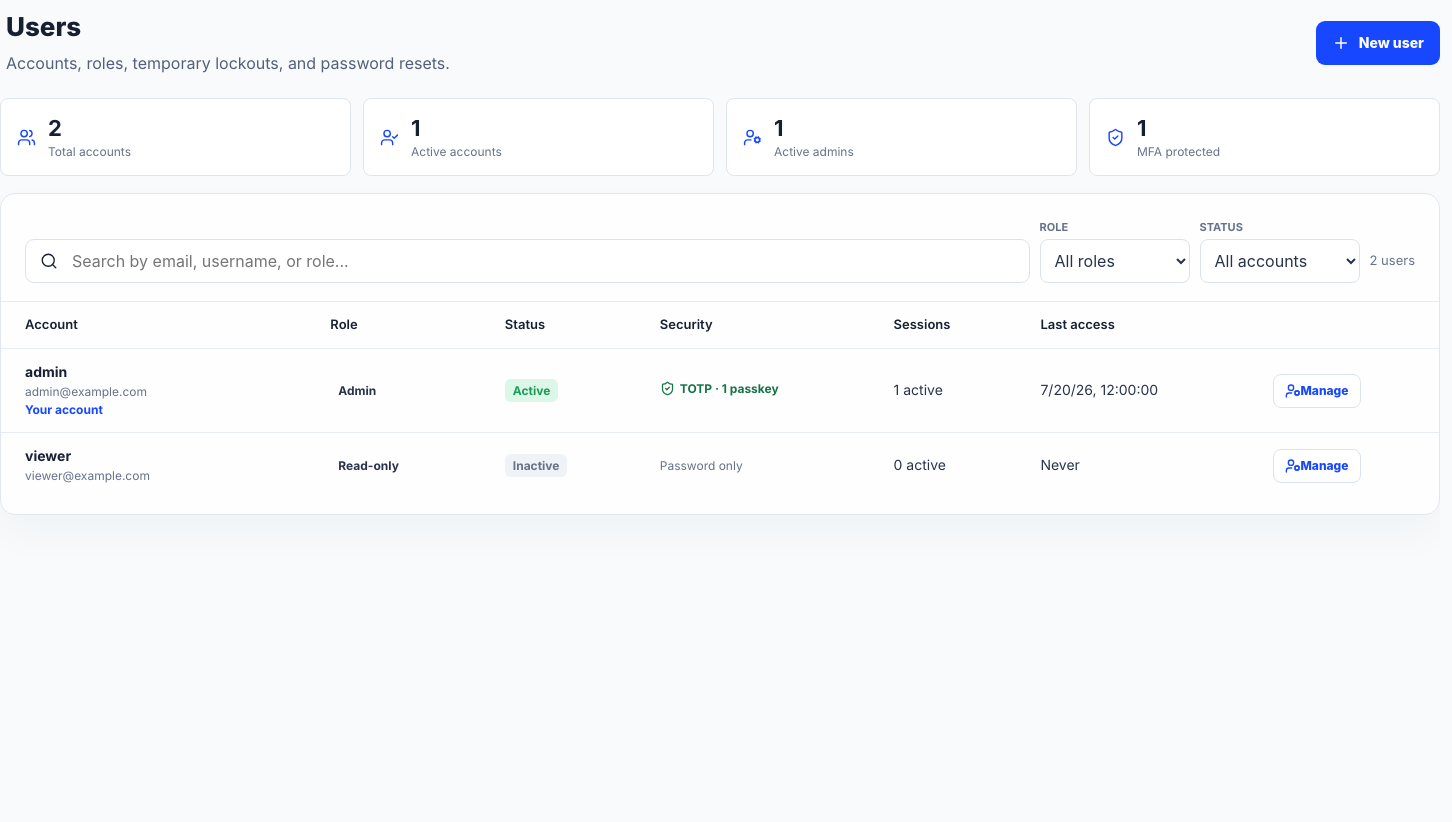
Test case: UsersView › creates an account and exposes its temporary password once
Click the button "New user" at (1378, 42), box top-left (1316, 20), bottom-right (1440, 64)
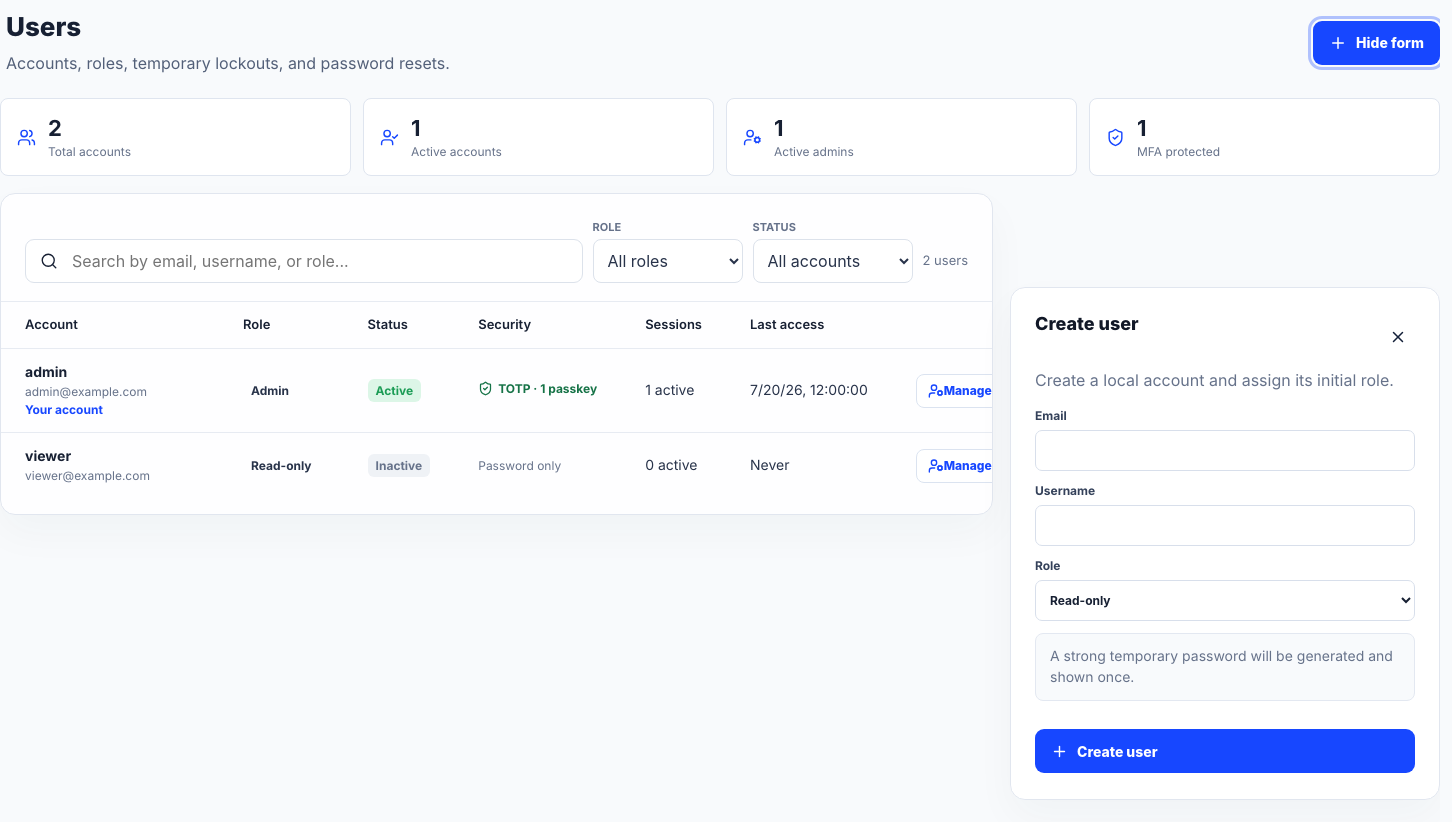
Type "new@example.com" into the field labelled "Email" at (1225, 450), box top-left (1035, 430), bottom-right (1415, 471)
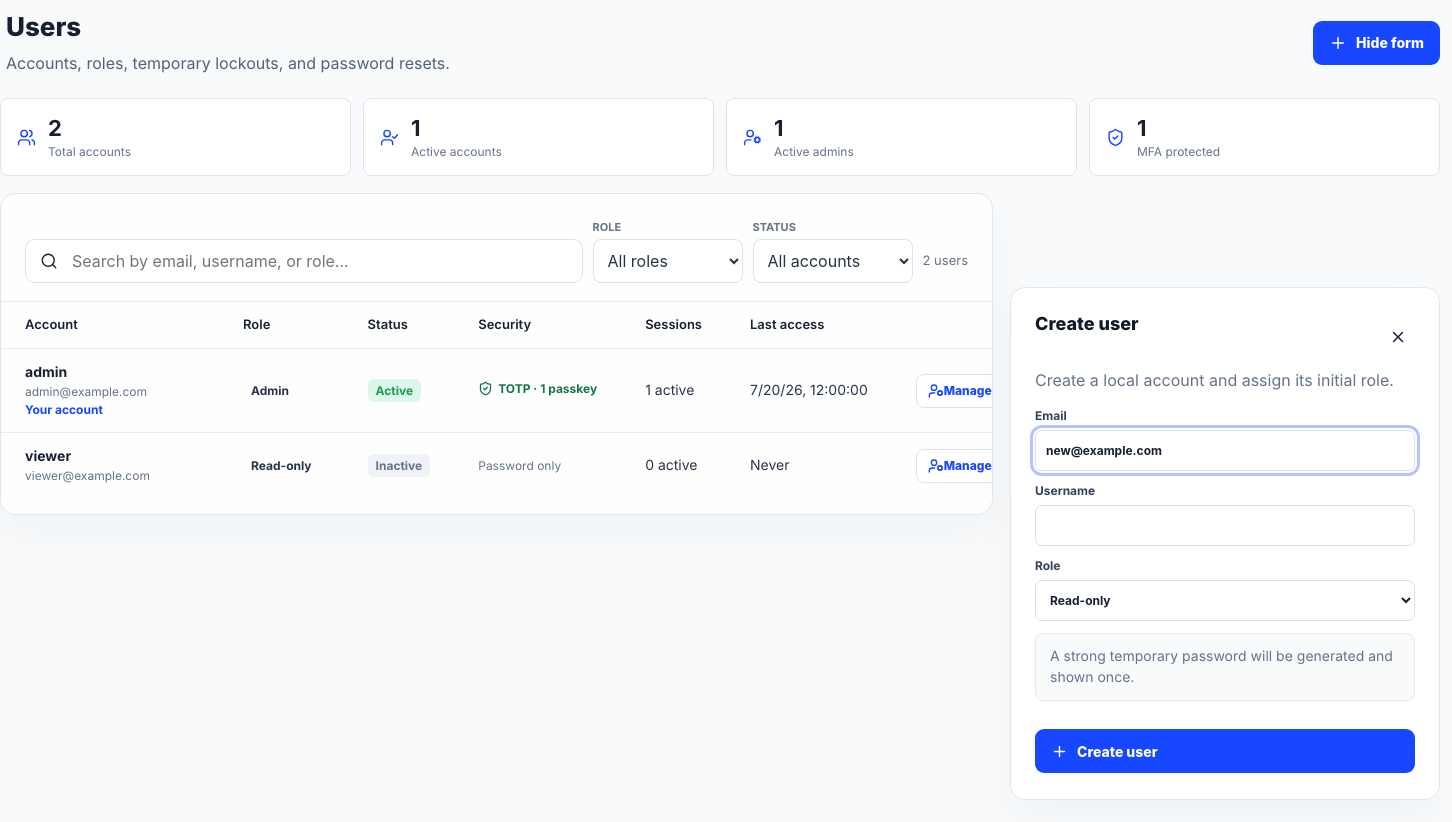
Type "new-user" into the field labelled "Username" at (1225, 526), box top-left (1035, 505), bottom-right (1415, 546)
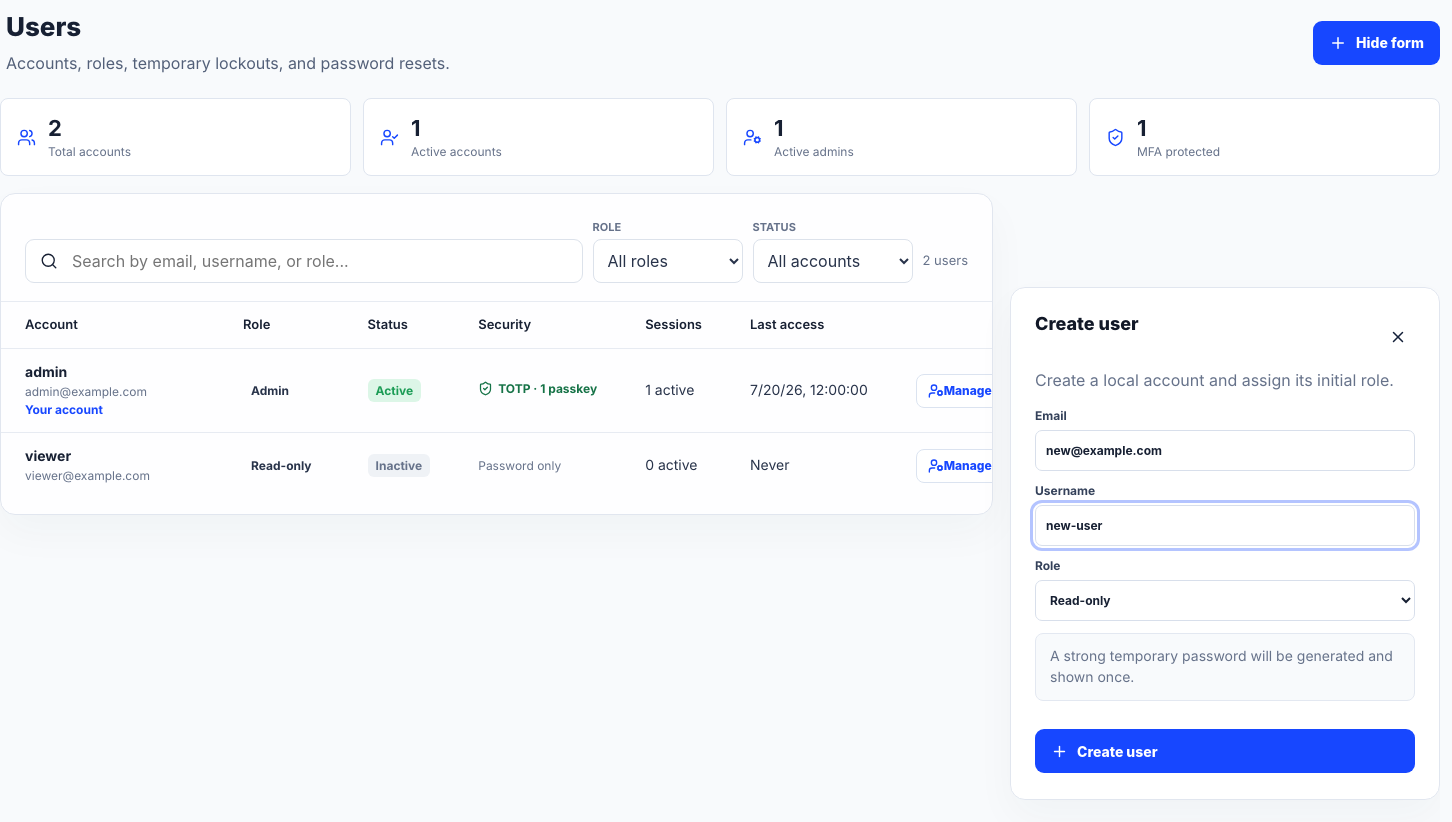
Click the button "Create user" at (1117, 751), box top-left (1035, 729), bottom-right (1415, 773)
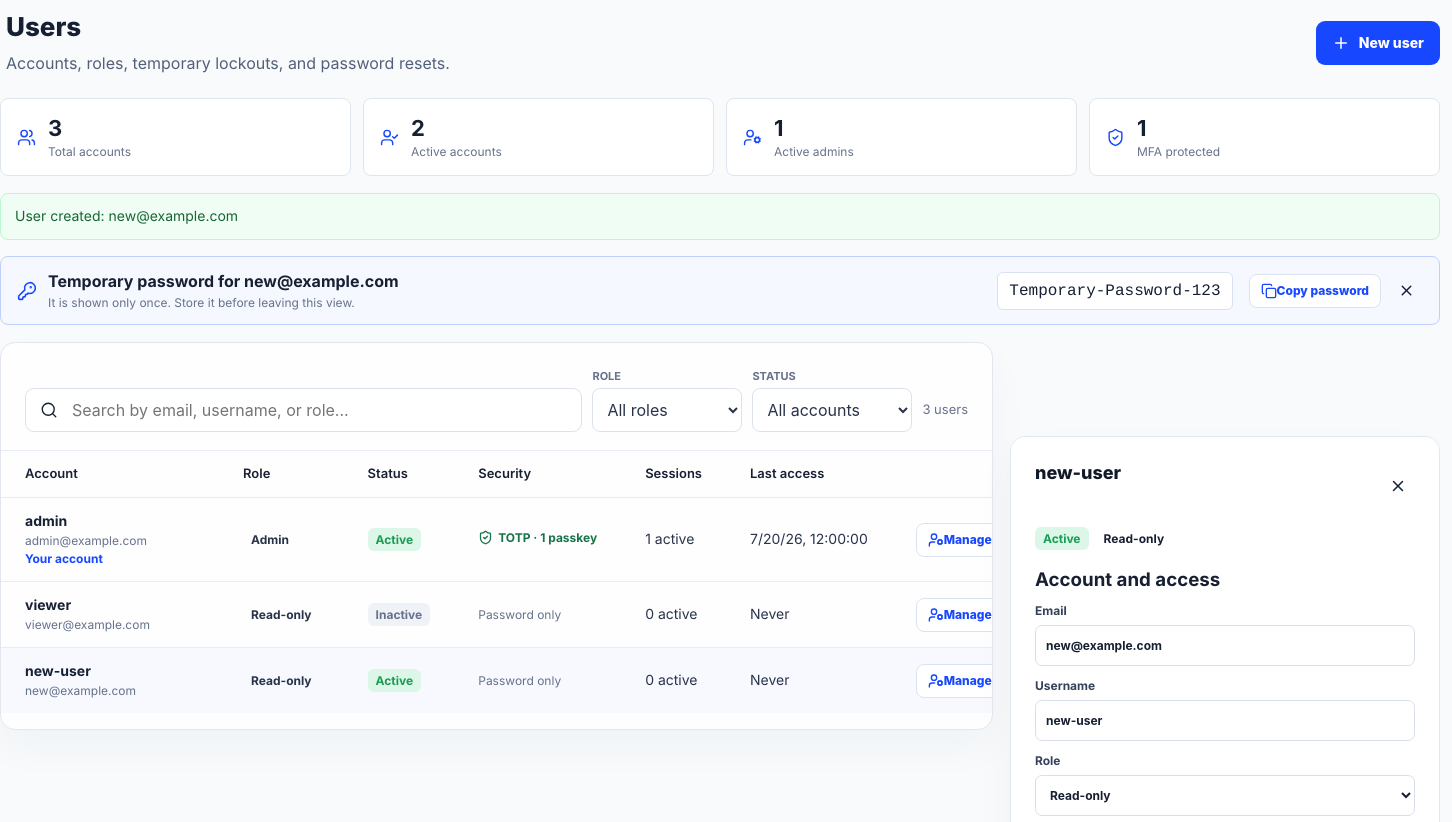
Result: the text "Temporary-Password-123" is shown at top-left (997, 272), bottom-right (1232, 310)
Click the button "Copy password" at (1315, 290), box top-left (1249, 274), bottom-right (1381, 308)
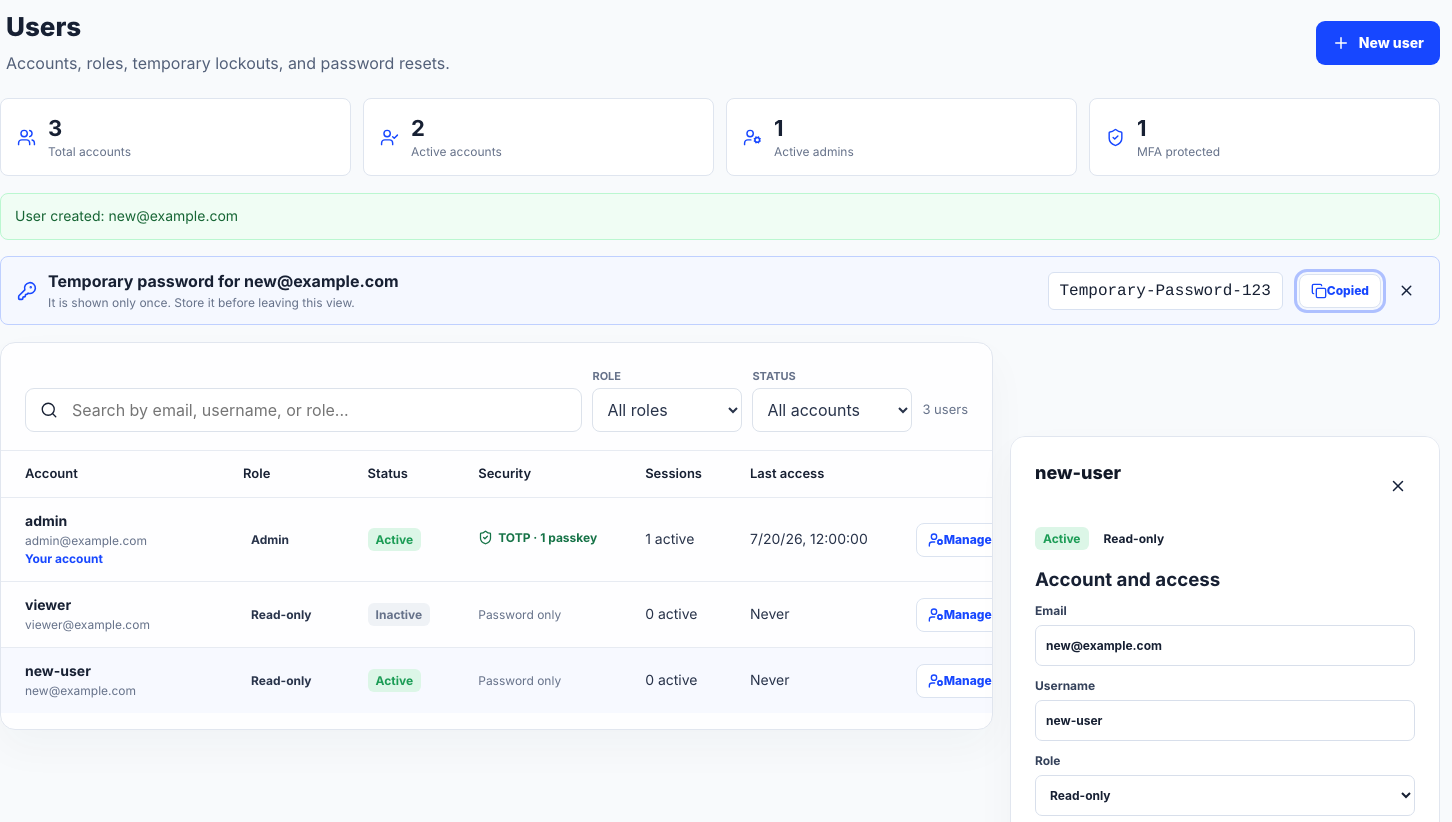
Result: the button "Copied" is shown at top-left (1299, 274), bottom-right (1381, 308)
